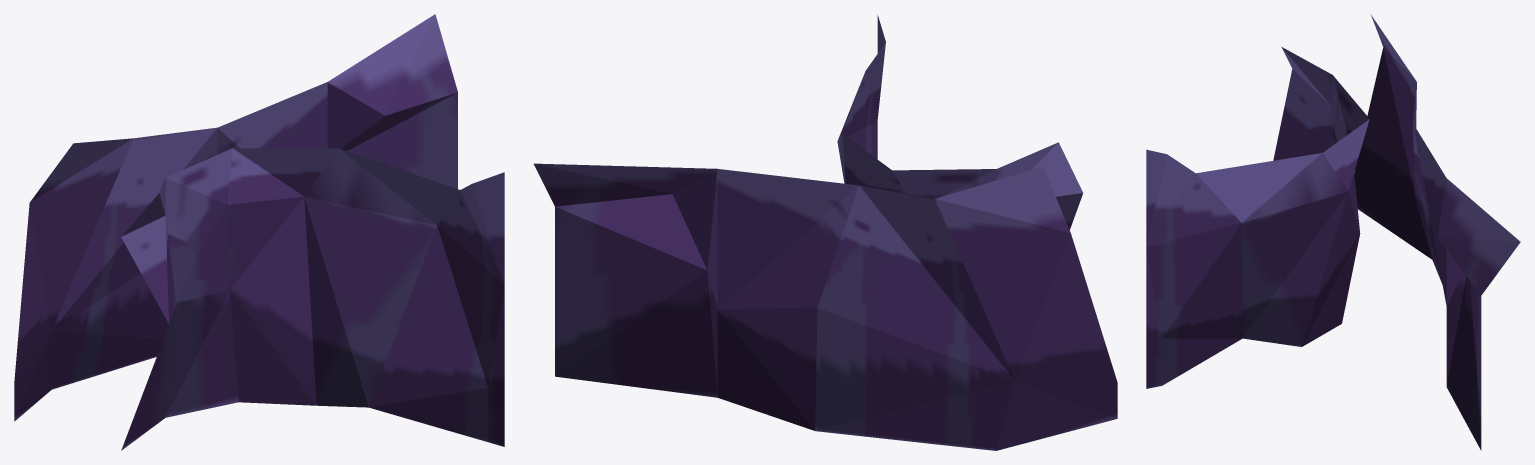
The picture shows the model from 3 angles, left to right: view 1: azimuth 30°, elevation 25°; view 2: azimuth 150°, elevation 25°; view 3: azimuth 270°, elevation 25°; orthographic projection. The views are drawn at different scales.
Visible parts, largest first — view 1: Mapa Base.006; view 2: Mapa Base.006; view 3: Mapa Base.006.
Part boxes in pixels (x1,y1,x2,y2): Mapa Base.006: (14,14,504,450); Mapa Base.006: (534,15,1117,450); Mapa Base.006: (1146,15,1520,450).
Size of the model in its own units: 29362 by 21166 by 15374.
1 material, 1 textured.
